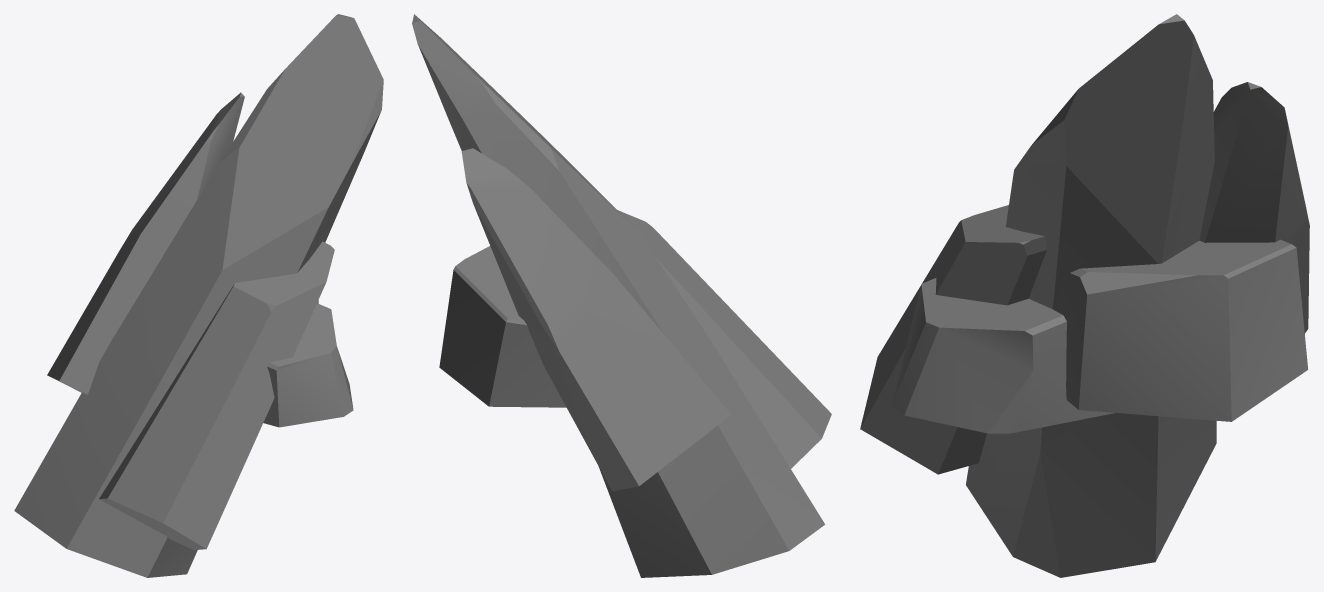
The model's file is rock_formation13.fbx.
The picture shows the model from 3 angles, left to right: view 1: azimuth 30°, elevation 25°; view 2: azimuth 150°, elevation 25°; view 3: azimuth 270°, elevation 25°; orthographic projection. The views are drawn at different scales.
Parts seen in each view (by area): view 1: rock; view 2: rock; view 3: rock.
Boxes of the visible parts, box(x1,y1,x2,y2) form: rock: box(14, 14, 383, 577); rock: box(412, 14, 831, 577); rock: box(860, 14, 1309, 577).
Size of the model in its own units: 4449 by 5859 by 3419.
